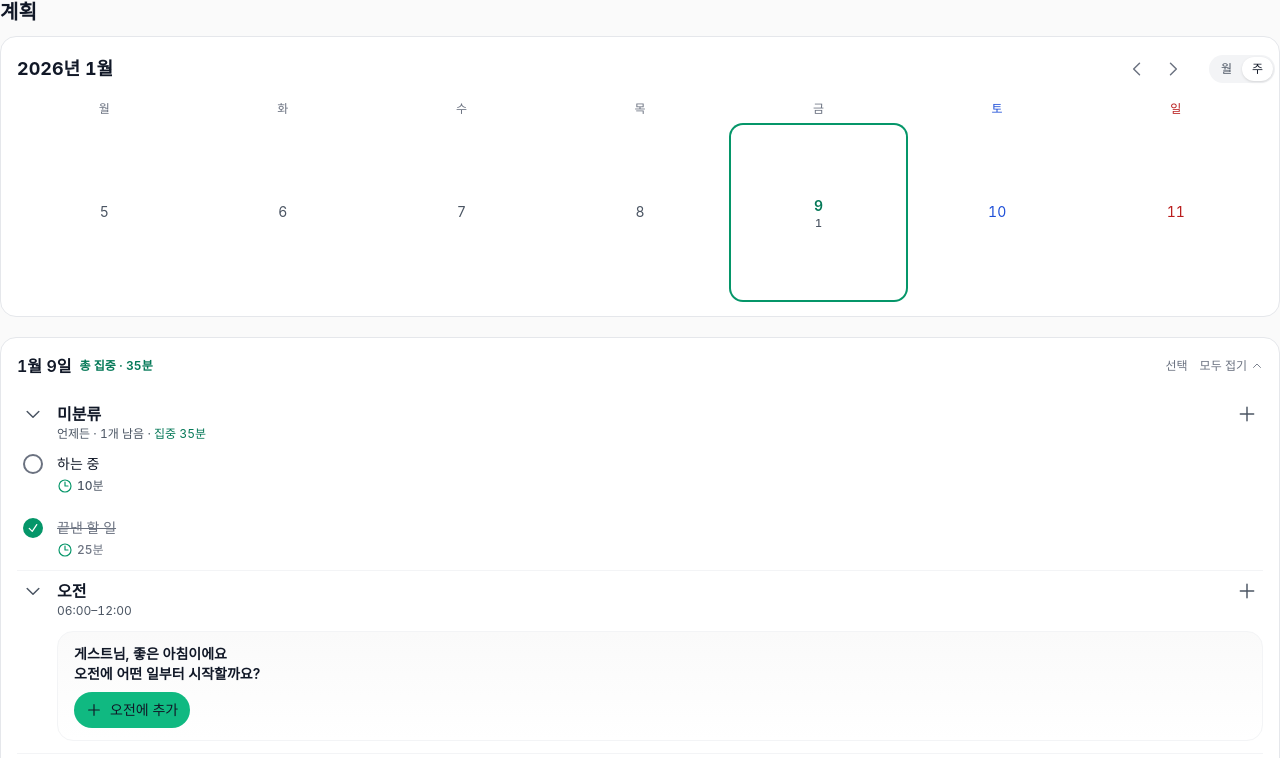
Scenario: TodosPage › opens the session detail from a completed todo time line, but keeps the timer for an unfinished one
Check: the button named "하는 중 타이머 화면 열기" is shown, box [53,478,108,494]
Click the button named "끝낸 할 일 집중 기록 보기".
click(80, 550)  # box [53,542,108,558]
Wait 700 ms
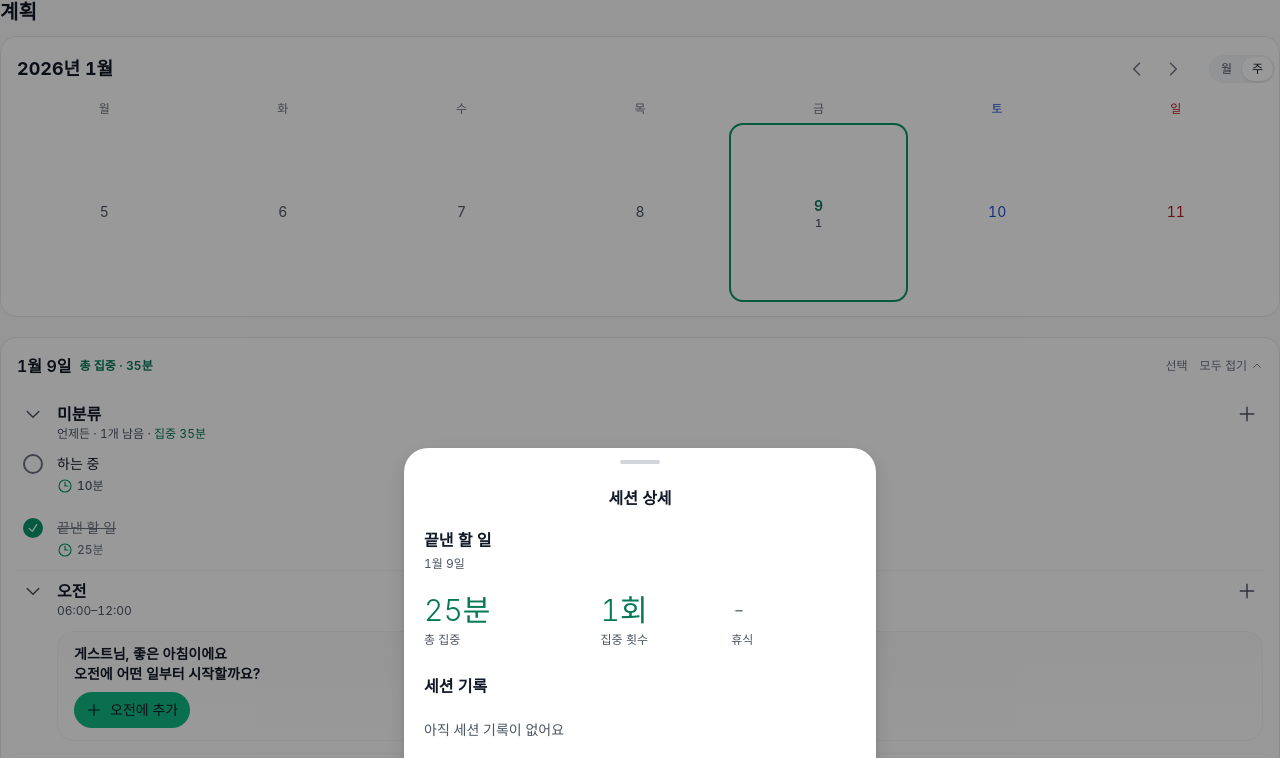
Check: the text "끝낸 할 일" is shown, box [424,530,492,550]
